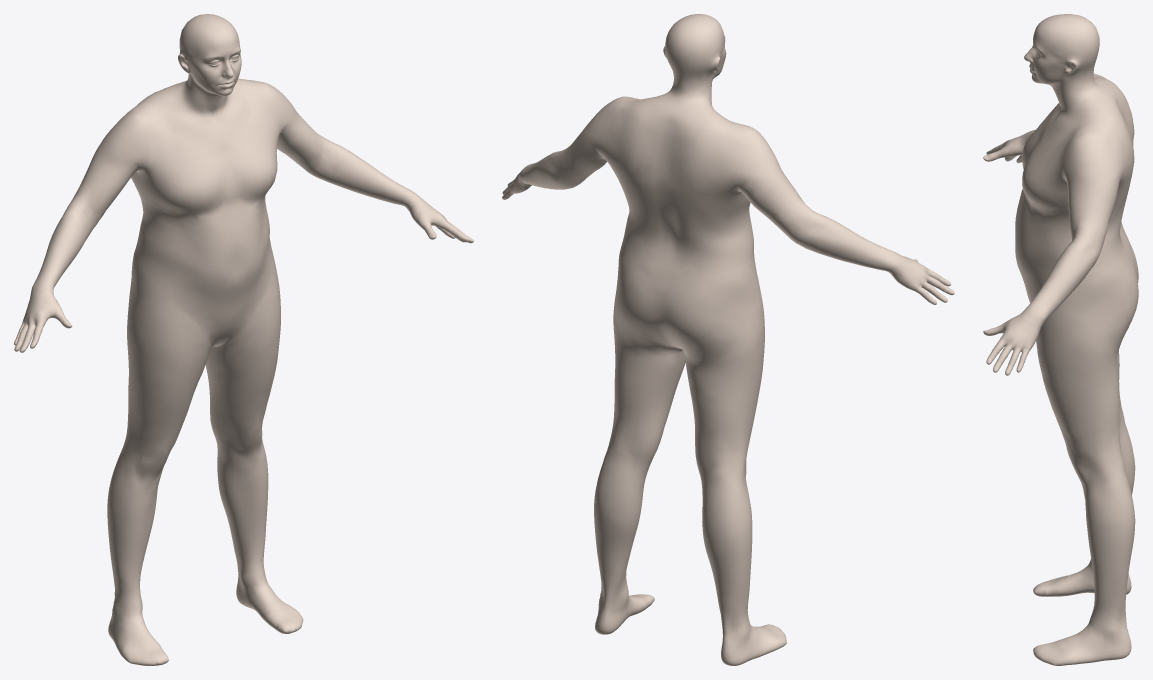
The model's file is mhr-short.glb.
The picture shows the model from 3 angles, left to right: view 1: azimuth 30°, elevation 25°; view 2: azimuth 150°, elevation 25°; view 3: azimuth 270°, elevation 25°; orthographic projection.
Parts seen in each view (by area): view 1: mhr-short; view 2: mhr-short; view 3: mhr-short.
Boxes of the visible parts, x1,y1,x2,y2 form: mhr-short: [14, 14, 473, 665]; mhr-short: [502, 14, 954, 665]; mhr-short: [983, 14, 1138, 665].
Size of the model in its own units: 1.34 by 1.75 by 0.4046.
